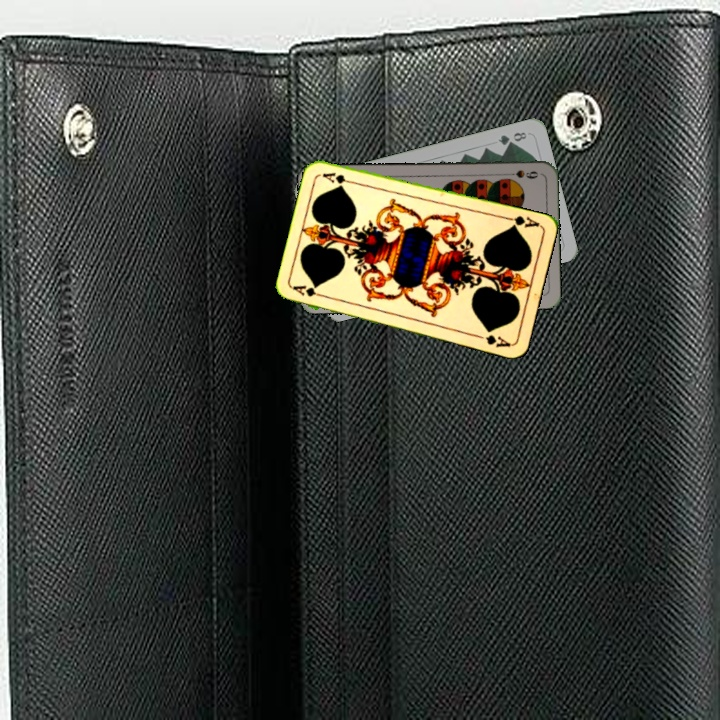G8: (494, 128, 529, 148)
GA: (501, 211, 542, 231), (290, 281, 330, 300)
S9: (501, 166, 540, 181)
